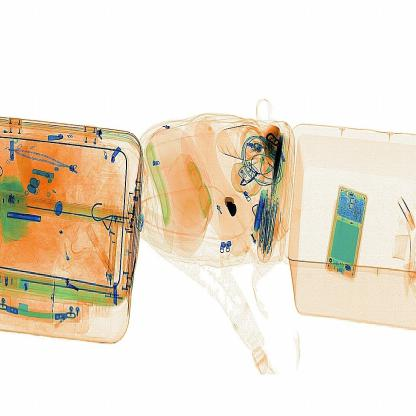wrench: (218, 186, 240, 226)
